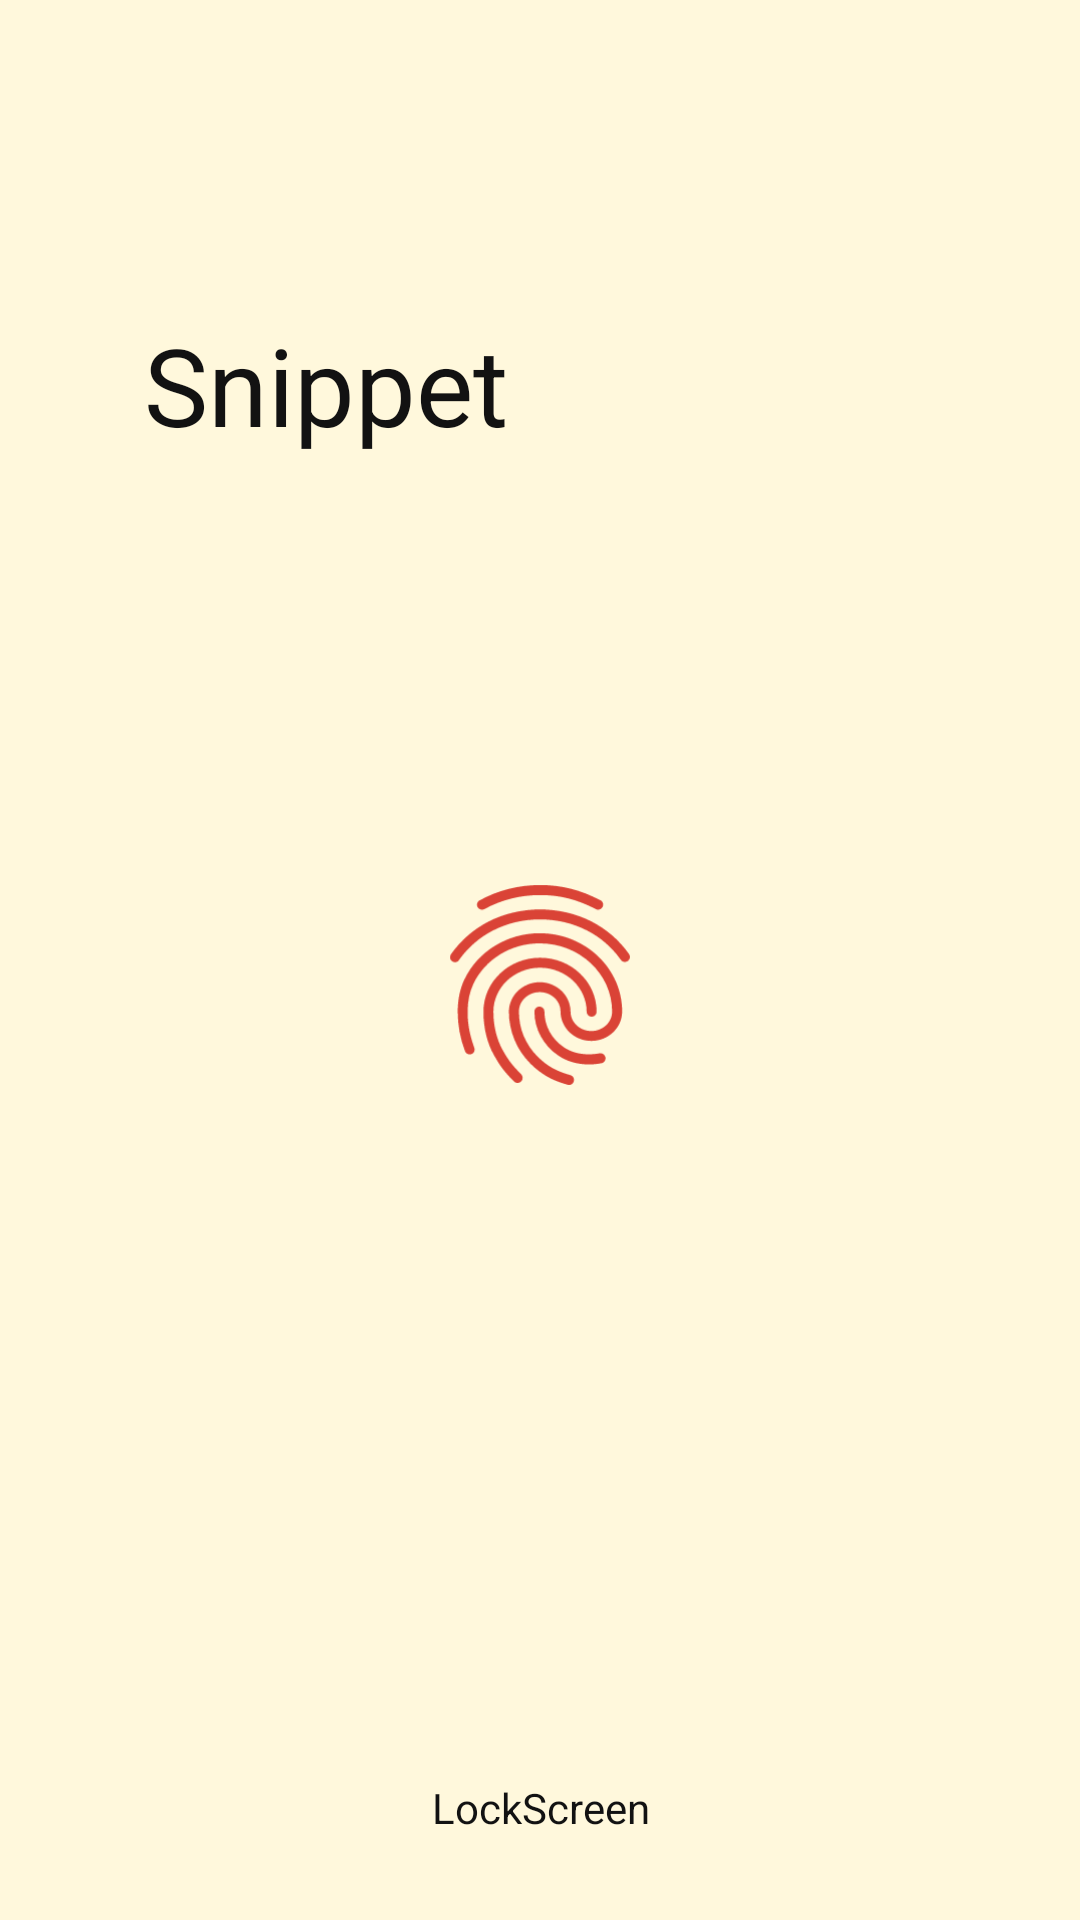

Icons on this 1080×1920 Android screen, each with the point to tap as (x,y):
fingerprint: (540,985)
